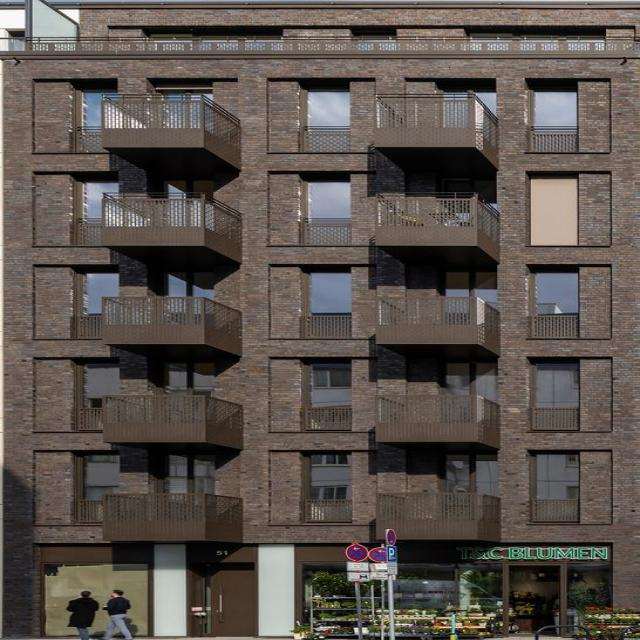door: (503, 567, 573, 638), (206, 568, 255, 636)
railing: (0, 40, 639, 56), (369, 94, 497, 157), (96, 96, 238, 152), (98, 195, 239, 248), (370, 194, 498, 250), (96, 297, 238, 341), (372, 298, 498, 345), (95, 397, 240, 435), (370, 396, 497, 437), (99, 496, 239, 527), (367, 495, 498, 528), (527, 128, 575, 153), (526, 317, 576, 340), (299, 220, 346, 244), (300, 129, 344, 154), (304, 316, 348, 339), (529, 503, 575, 524), (530, 411, 575, 432), (306, 410, 347, 432), (307, 501, 345, 523), (73, 503, 101, 524), (76, 410, 100, 432), (76, 316, 97, 339), (79, 129, 98, 153)
window: (300, 567, 608, 634), (531, 178, 581, 246), (530, 268, 578, 316), (442, 359, 496, 400), (530, 456, 574, 504), (438, 272, 493, 309), (530, 364, 574, 410), (75, 456, 115, 503), (305, 273, 348, 316), (301, 181, 345, 223), (444, 458, 491, 497), (307, 365, 345, 410), (165, 456, 207, 496), (529, 90, 573, 128), (308, 457, 346, 501), (77, 364, 111, 410), (437, 176, 495, 202), (80, 273, 115, 316), (305, 91, 344, 128), (163, 366, 208, 398), (442, 89, 491, 118), (164, 273, 209, 301), (79, 185, 115, 220), (80, 93, 113, 129)
